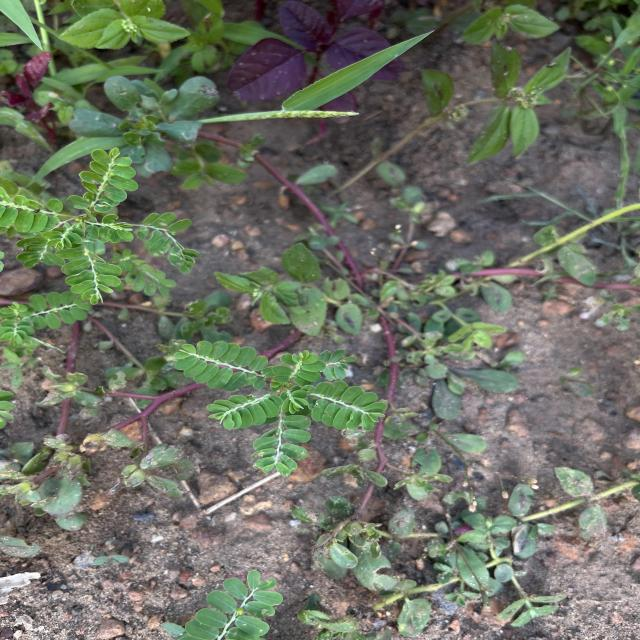Phyllanthus niruri: (169, 338, 270, 394), (301, 378, 391, 434), (252, 409, 314, 477), (204, 390, 284, 430), (274, 348, 328, 388)
